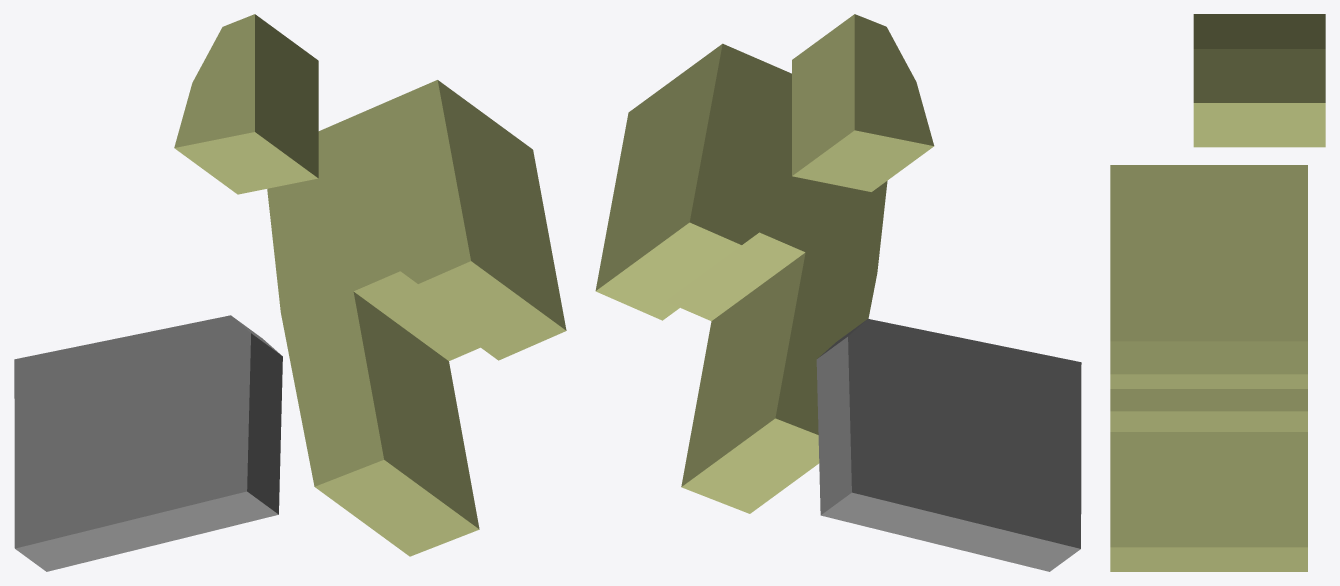
3 views of the same model, side by side, from view 1: azimuth 30°, elevation 25°; view 2: azimuth 150°, elevation 25°; view 3: azimuth 270°, elevation 25° (orthographic). The views are drawn at different scales.
Visible parts, largest first — view 1: 0_1_0_0_2_2_0_1_2_1; view 2: 0_1_0_0_2_2_0_1_2_1; view 3: 0_1_0_0_2_2_0_1_2_1.
Part boxes in pixels (bbox=[...]): 0_1_0_0_2_2_0_1_2_1: bbox=[14, 14, 566, 571]; 0_1_0_0_2_2_0_1_2_1: bbox=[595, 14, 1081, 571]; 0_1_0_0_2_2_0_1_2_1: bbox=[1110, 14, 1325, 571].
Size of the model in its own units: 24.97 by 24.92 by 9.8.
